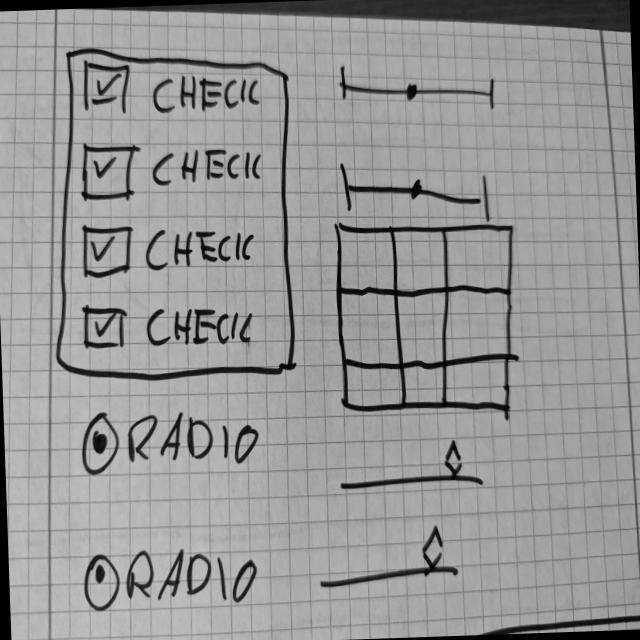checkbox: (81, 135, 267, 204), (82, 218, 259, 285), (83, 57, 265, 119), (82, 298, 258, 356)
container: (44, 38, 300, 388)
number-input: (316, 522, 462, 592), (338, 437, 487, 496)
radio: (80, 406, 264, 481), (82, 544, 264, 616)
slider: (339, 158, 495, 227), (339, 57, 500, 116)
table: (331, 218, 523, 426)
